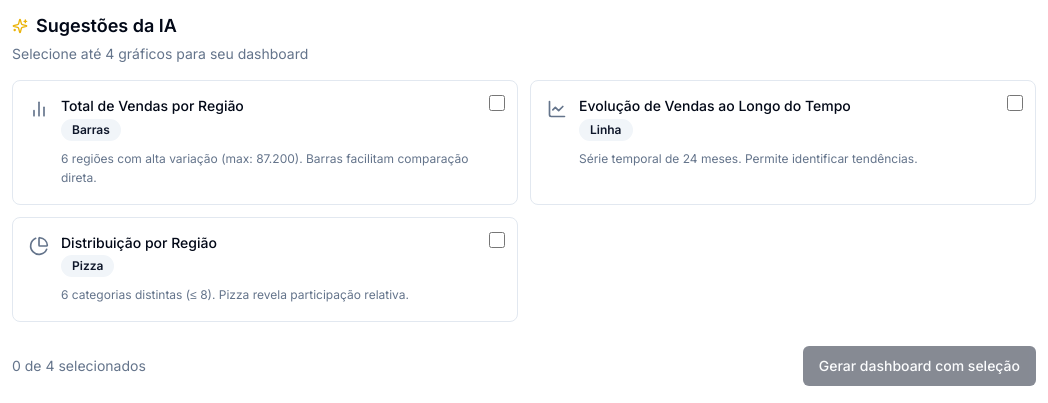
ChartSuggestionSelector › T-C03: selecionar um item atualiza o contador
The width and height of the screenshot is (1048, 403).
Check: the text "0 de 4 selecionados" is shown, box [12,356,146,376]
Click the first card
Click the element with test id "suggestion-card-0" at {"x": 265, "y": 142}, box [12,80,518,204]
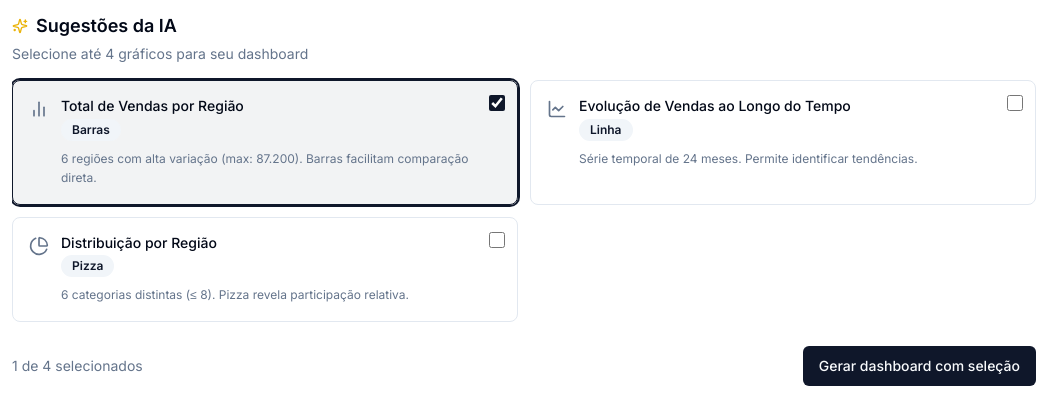
Check: the text "1 de 4 selecionados" is shown, box [12,356,143,376]
